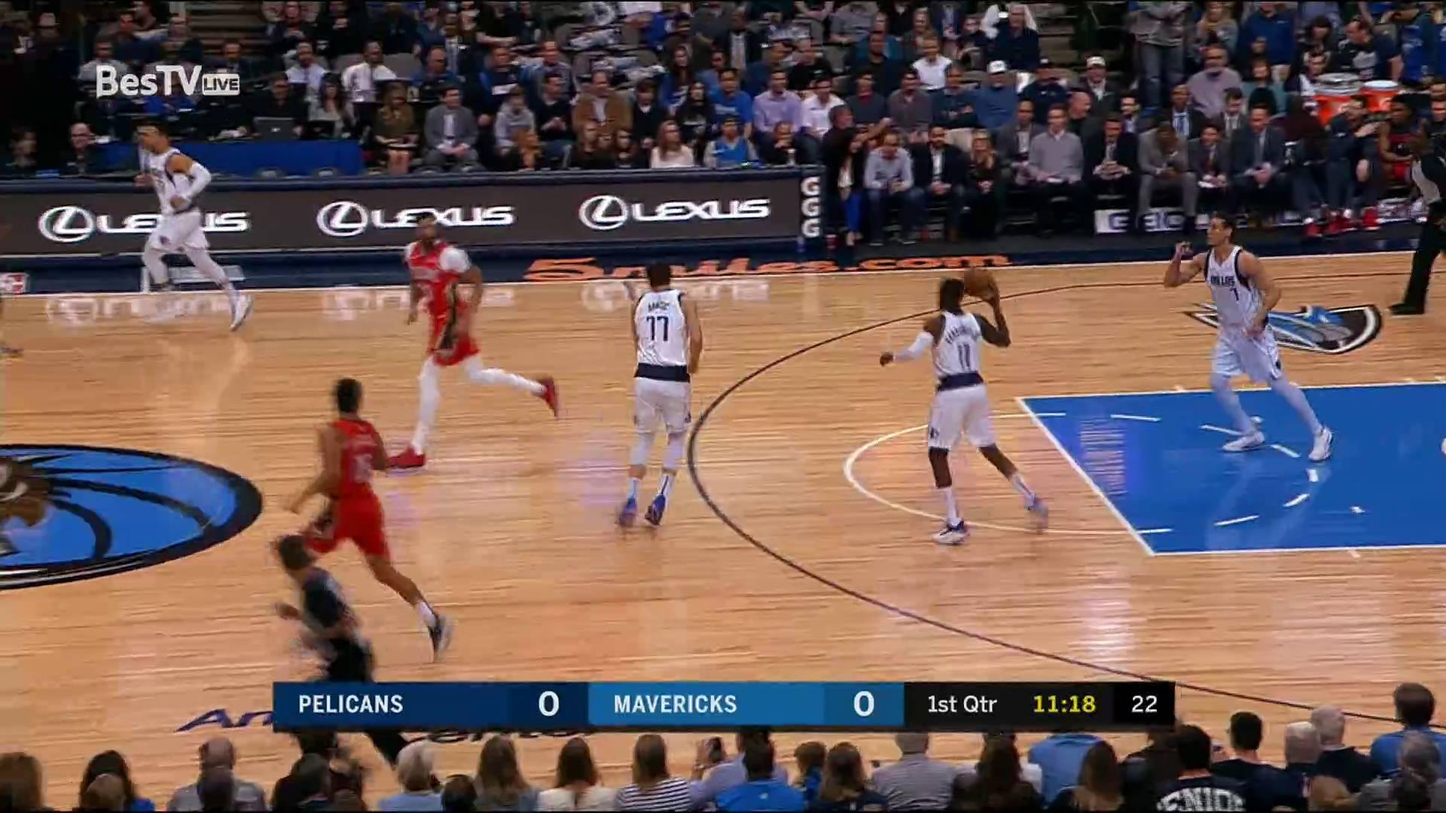basketball: (961, 266, 993, 300)
